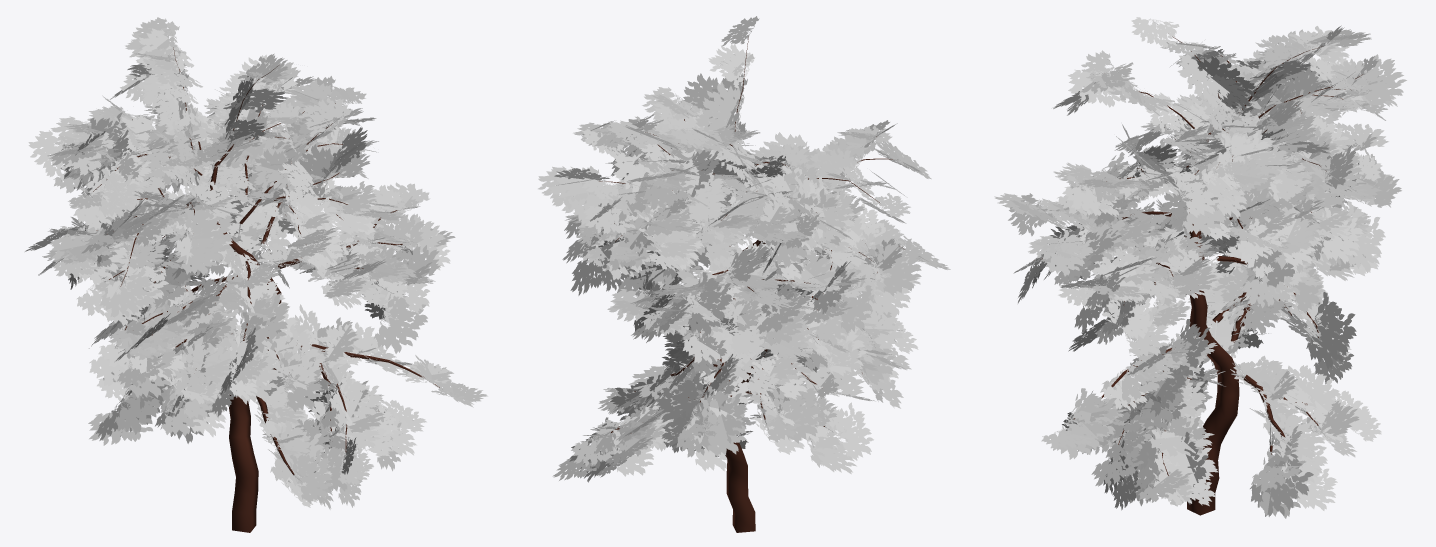
File: Tree_3.fbx
3 renders of one model, left to right at view 1: azimuth 30°, elevation 25°; view 2: azimuth 150°, elevation 25°; view 3: azimuth 270°, elevation 25°, orthographic. The views are drawn at different scales.
Parts seen in each view (by area): view 1: Tree3; view 2: Tree3; view 3: Tree3.
Part boxes in pixels (box(x1,y1,x2,y2)): Tree3: box(25, 17, 487, 532); Tree3: box(538, 16, 950, 532); Tree3: box(994, 17, 1406, 518).
Size of the model in its own units: 2352 by 2788 by 2198.
